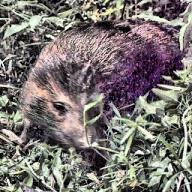boar: (18, 17, 186, 162)
